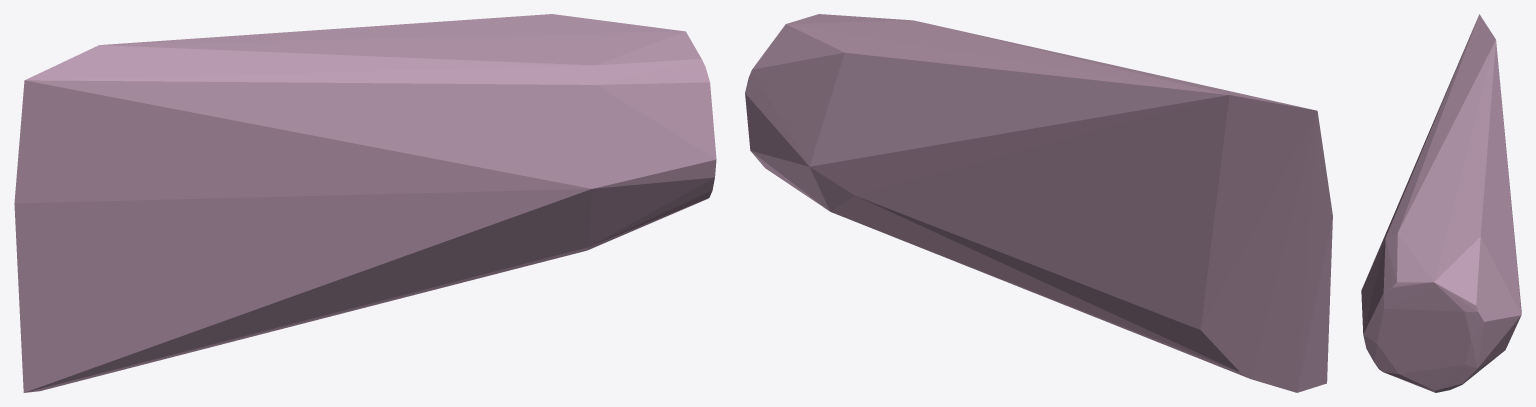
File: paint_container_tube_c02.glb
3 renders of one model, left to right at view 1: azimuth 30°, elevation 25°; view 2: azimuth 150°, elevation 25°; view 3: azimuth 270°, elevation 25°, orthographic. The views are drawn at different scales.
Visible parts, largest first — view 1: geometry_0; view 2: geometry_0; view 3: geometry_0.
Part boxes in pixels (x1=…): geometry_0: x1=14, y1=14, x2=716, y2=392; geometry_0: x1=745, y1=14, x2=1332, y2=392; geometry_0: x1=1361, y1=14, x2=1521, y2=392.
Size of the model in its own units: 0.4779 by 0.2267 by 0.1469.
